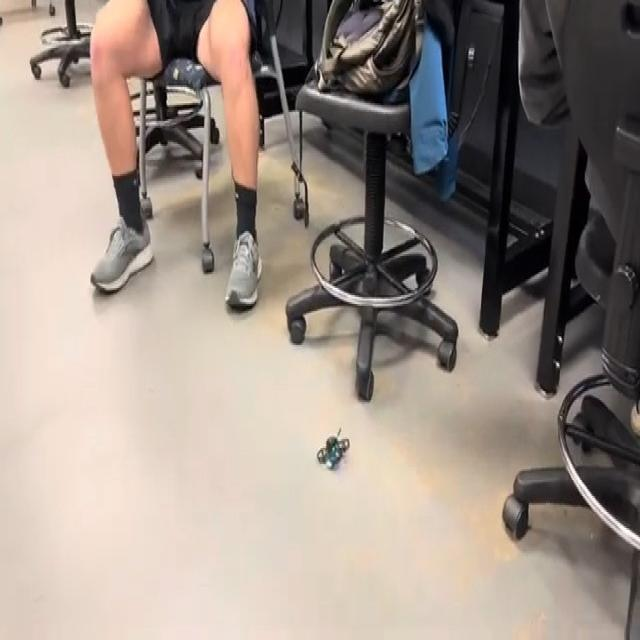drone: (308, 419, 358, 489)
